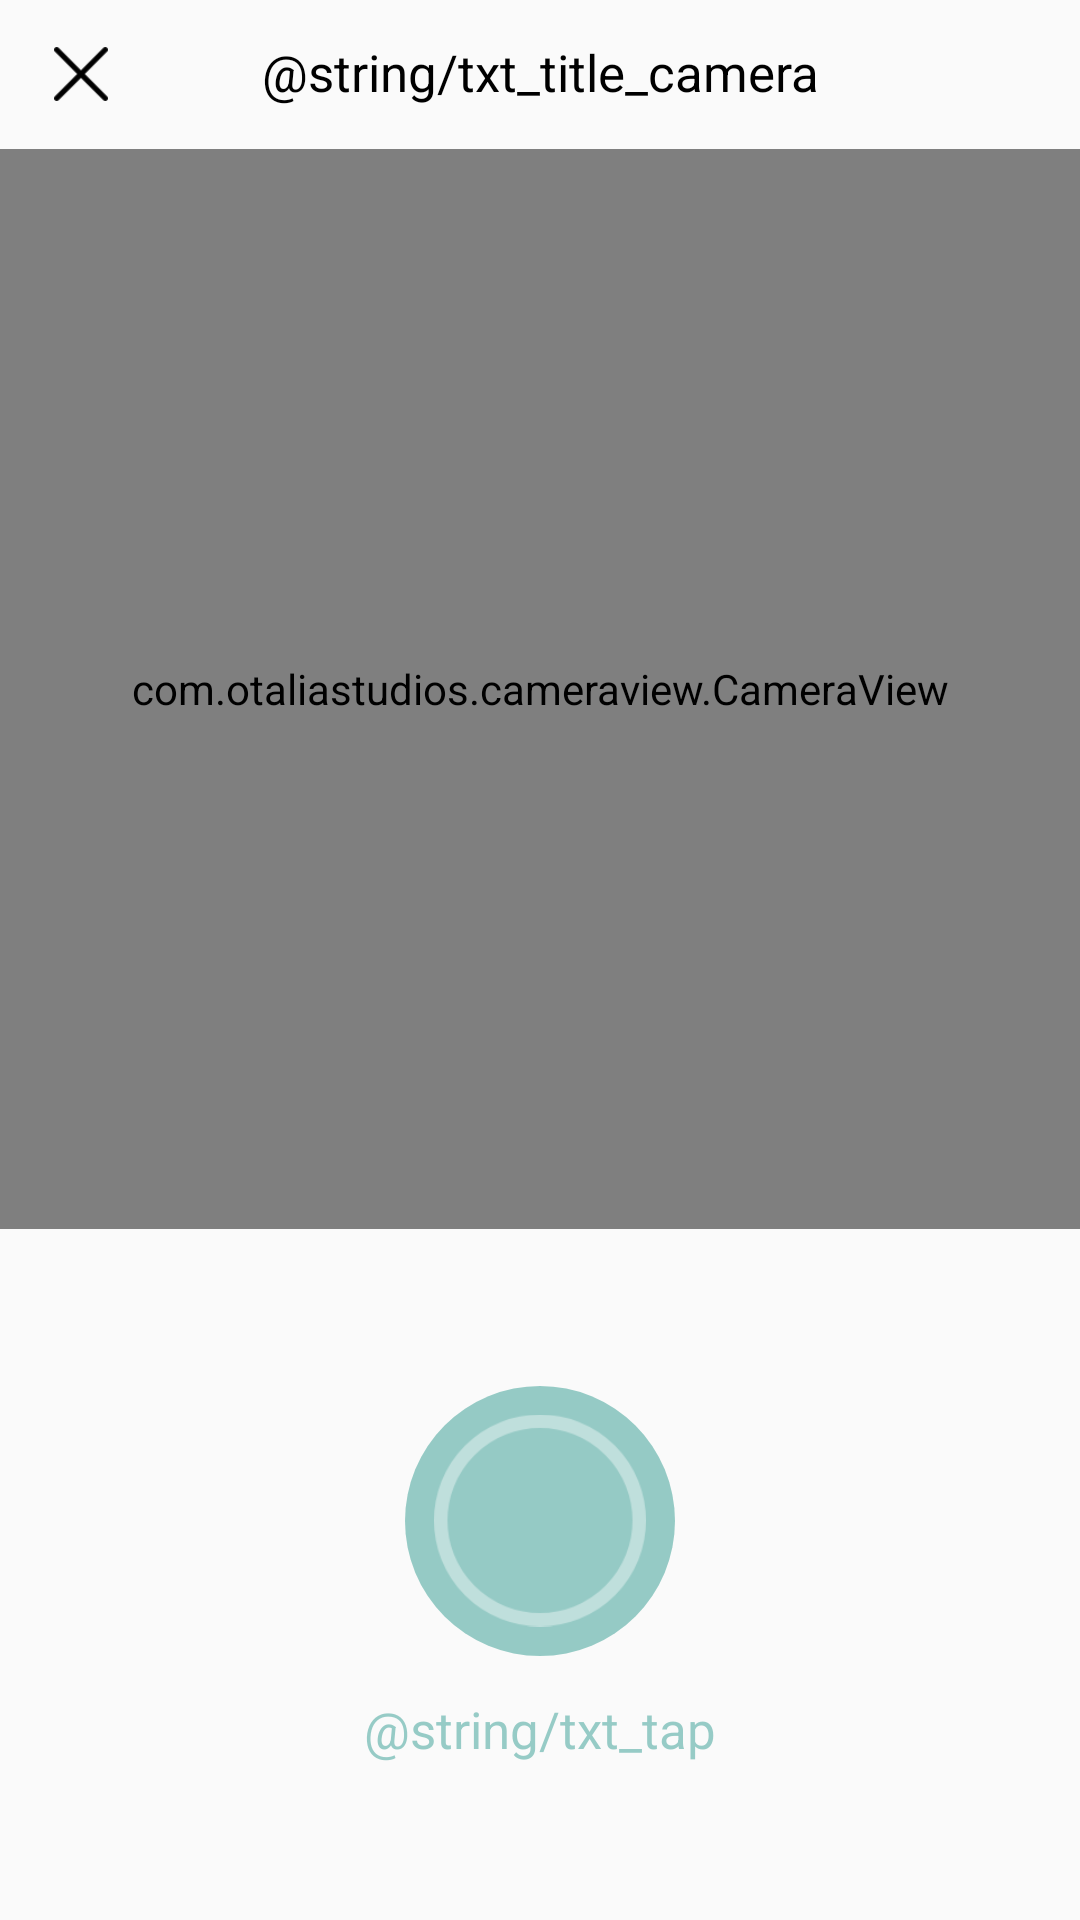

Named icons in this screenshot (1080px×1920px) and their bounding boxes, bbox(x1, y1, x2, y2):
camera shutter: bbox(434, 1415, 646, 1627)
close: bbox(54, 47, 108, 101)
